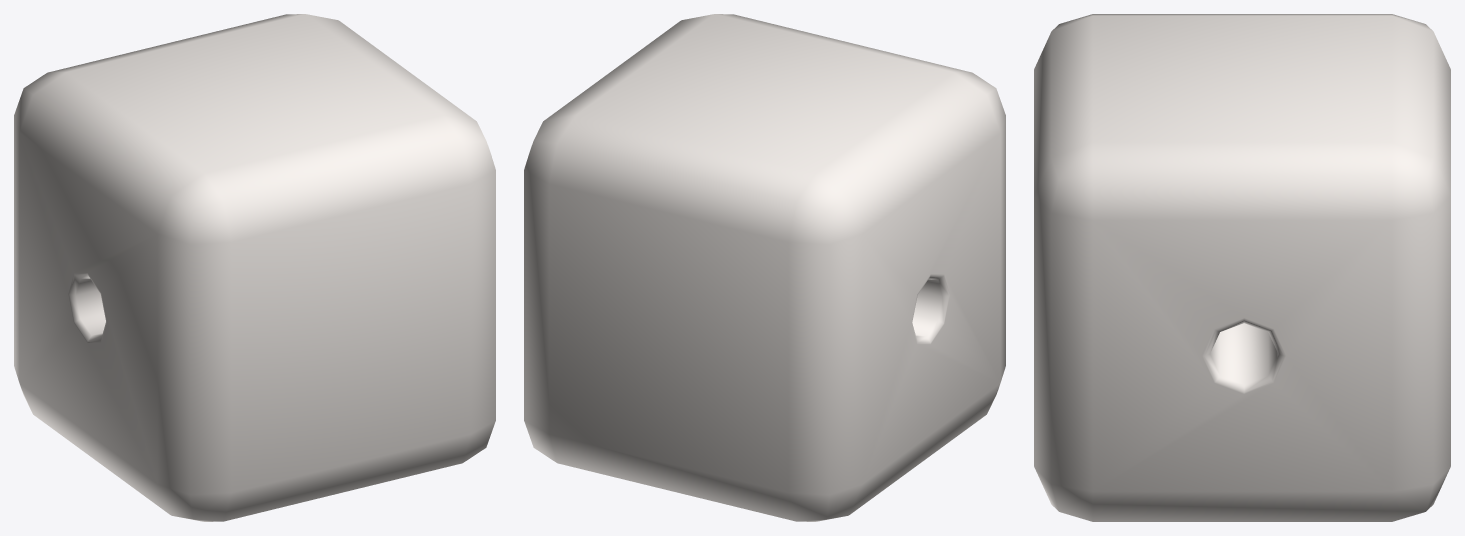
The model's file is bead_letter menu.fbx.
3 renders of one model, left to right at view 1: azimuth 30°, elevation 25°; view 2: azimuth 150°, elevation 25°; view 3: azimuth 270°, elevation 25°, orthographic. The views are drawn at different scales.
Visible parts, largest first — view 1: bead_letter; view 2: bead_letter; view 3: bead_letter.
Boxes of the visible parts, x1,y1,x2,y2 form: bead_letter: (14,14,495,521); bead_letter: (524,14,1005,521); bead_letter: (1034,14,1450,521).
Size of the model in its own units: 1.7 by 1.7 by 1.7.
